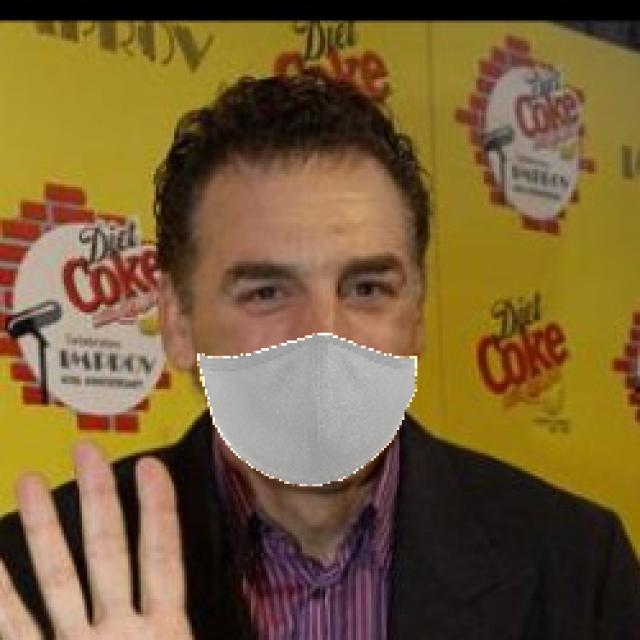mask: (171, 326, 452, 491)
